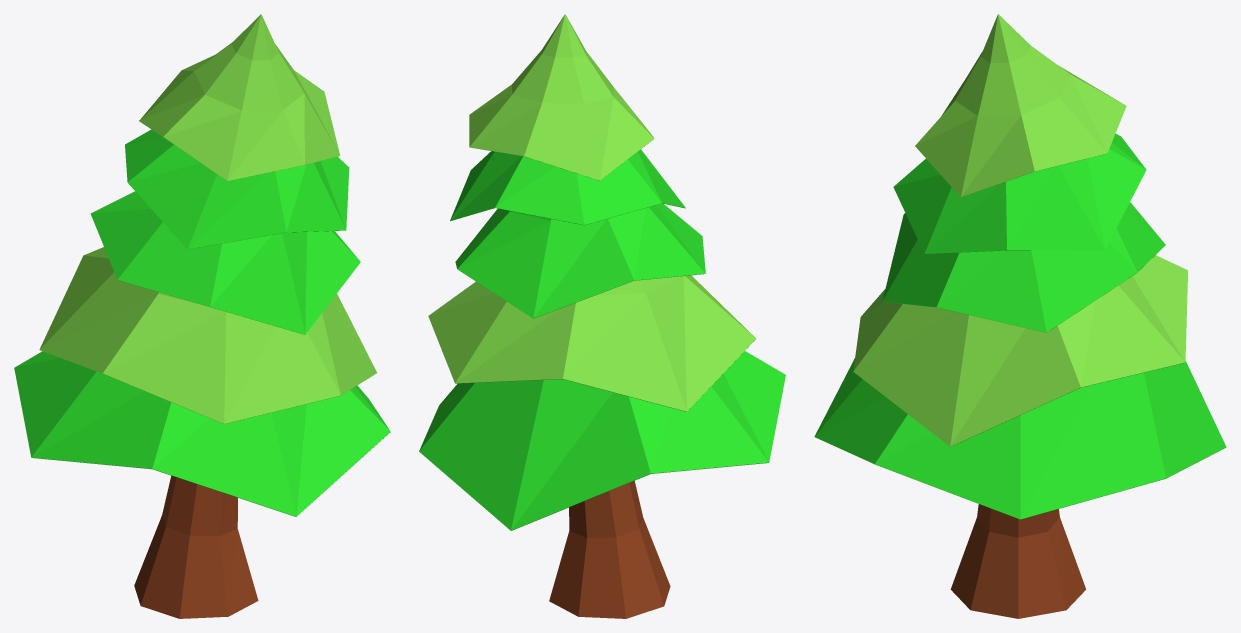
3 renders of one model, left to right at view 1: azimuth 30°, elevation 25°; view 2: azimuth 150°, elevation 25°; view 3: azimuth 270°, elevation 25°, orthographic. The views are drawn at different scales.
Visible parts, largest first — view 1: Cylinder001; view 2: Cylinder001; view 3: Cylinder001.
Boxes of the visible parts, x1=… form: Cylinder001: x1=14, y1=14, x2=390, y2=618; Cylinder001: x1=419, y1=14, x2=785, y2=618; Cylinder001: x1=814, y1=14, x2=1226, y2=618.
Bounding box in the file's own units: 1406 × 2281 × 1409.
